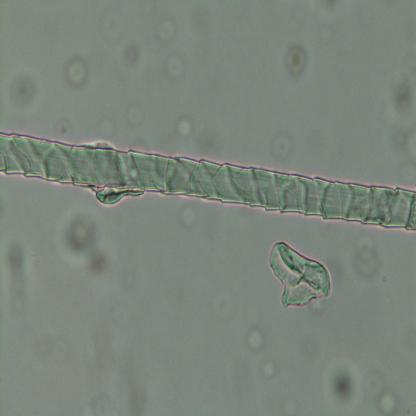Background material: (372, 74, 416, 188), (270, 238, 333, 309), (57, 207, 110, 273), (2, 234, 35, 323), (189, 271, 246, 322), (327, 354, 362, 407), (348, 230, 383, 280), (113, 23, 144, 74), (263, 125, 303, 163), (278, 38, 310, 81), (3, 72, 39, 104), (48, 110, 78, 143), (150, 10, 178, 42), (63, 54, 87, 88), (172, 195, 196, 228), (160, 50, 185, 80), (122, 102, 148, 126), (244, 323, 265, 352), (97, 111, 117, 140), (376, 388, 398, 414), (174, 117, 196, 142), (258, 359, 275, 379)
Hair: (0, 132, 416, 232)
